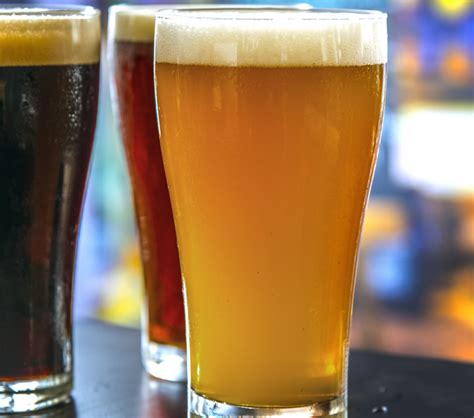alcohol: (158, 9, 384, 418), (0, 6, 105, 411), (112, 5, 204, 380)
